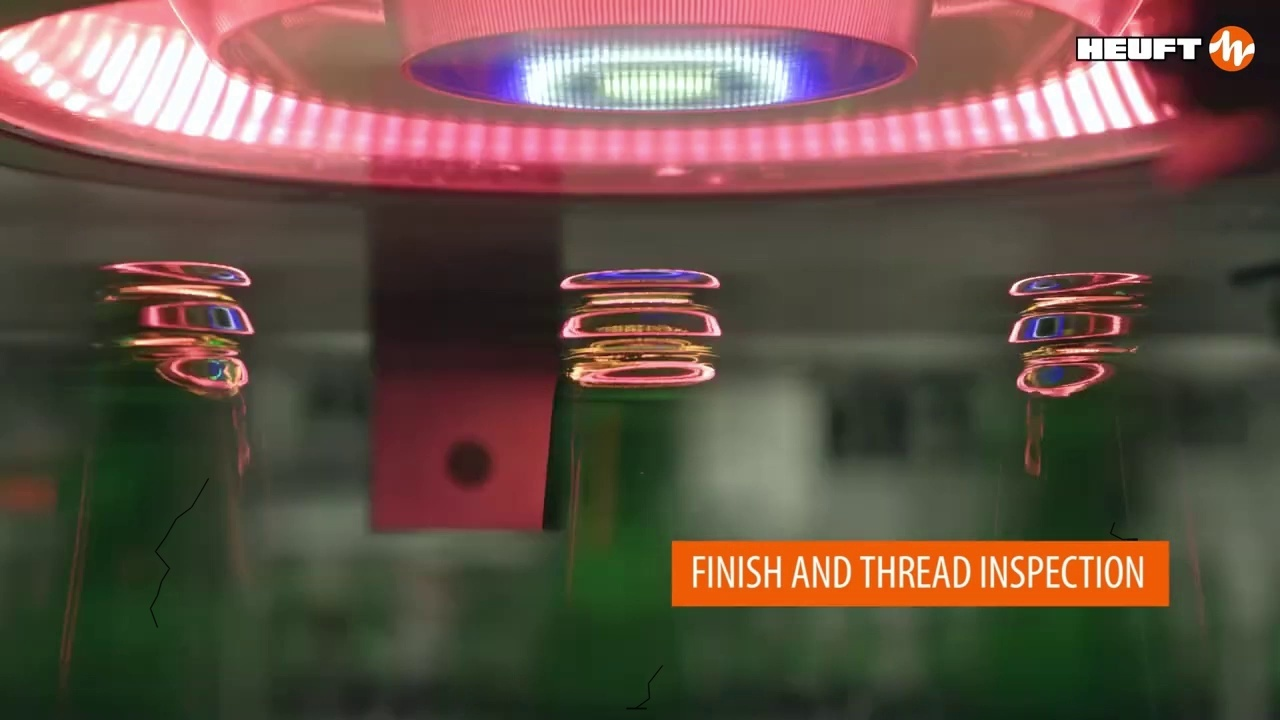bottle: (535, 272, 819, 715), (56, 263, 264, 685), (985, 278, 1150, 537)
crack: (150, 478, 208, 627), (626, 665, 662, 708), (1110, 522, 1137, 539)
